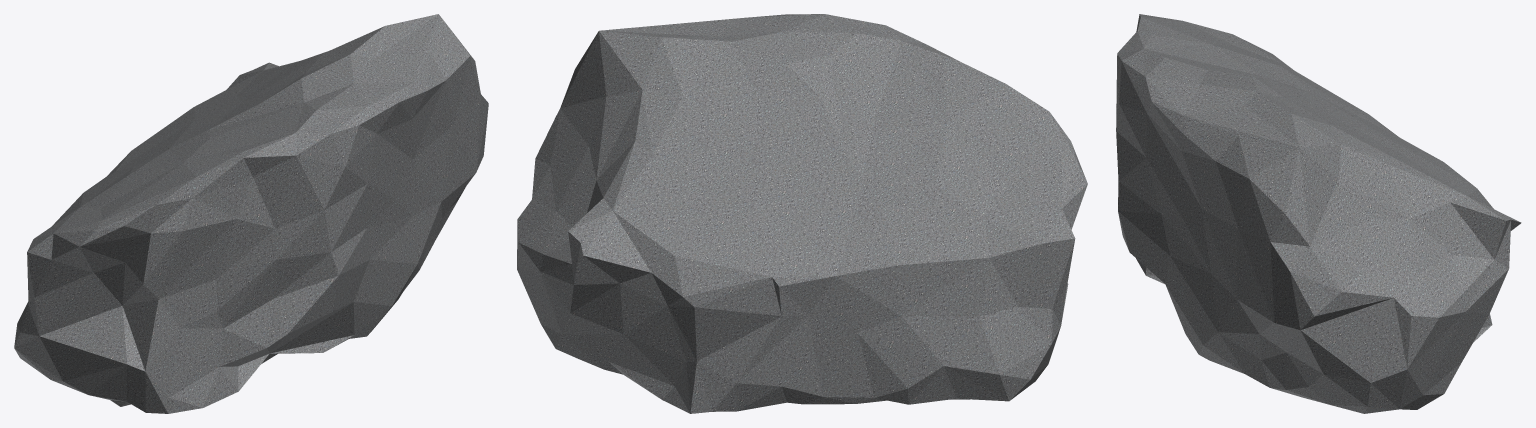
Rendered from boulder.fbx.
The picture shows the model from 3 angles, left to right: view 1: azimuth 30°, elevation 25°; view 2: azimuth 150°, elevation 25°; view 3: azimuth 270°, elevation 25°; orthographic projection. The views are drawn at different scales.
Parts seen in each view (by area): view 1: Group1; view 2: Group1; view 3: Group1.
Boxes of the visible parts, <box> form: Group1: <box>14,14,488,413</box>; Group1: <box>517,14,1087,413</box>; Group1: <box>1116,14,1521,413</box>.
Bounding box in the file's own units: 1.78 × 0.9488 × 1.23.
